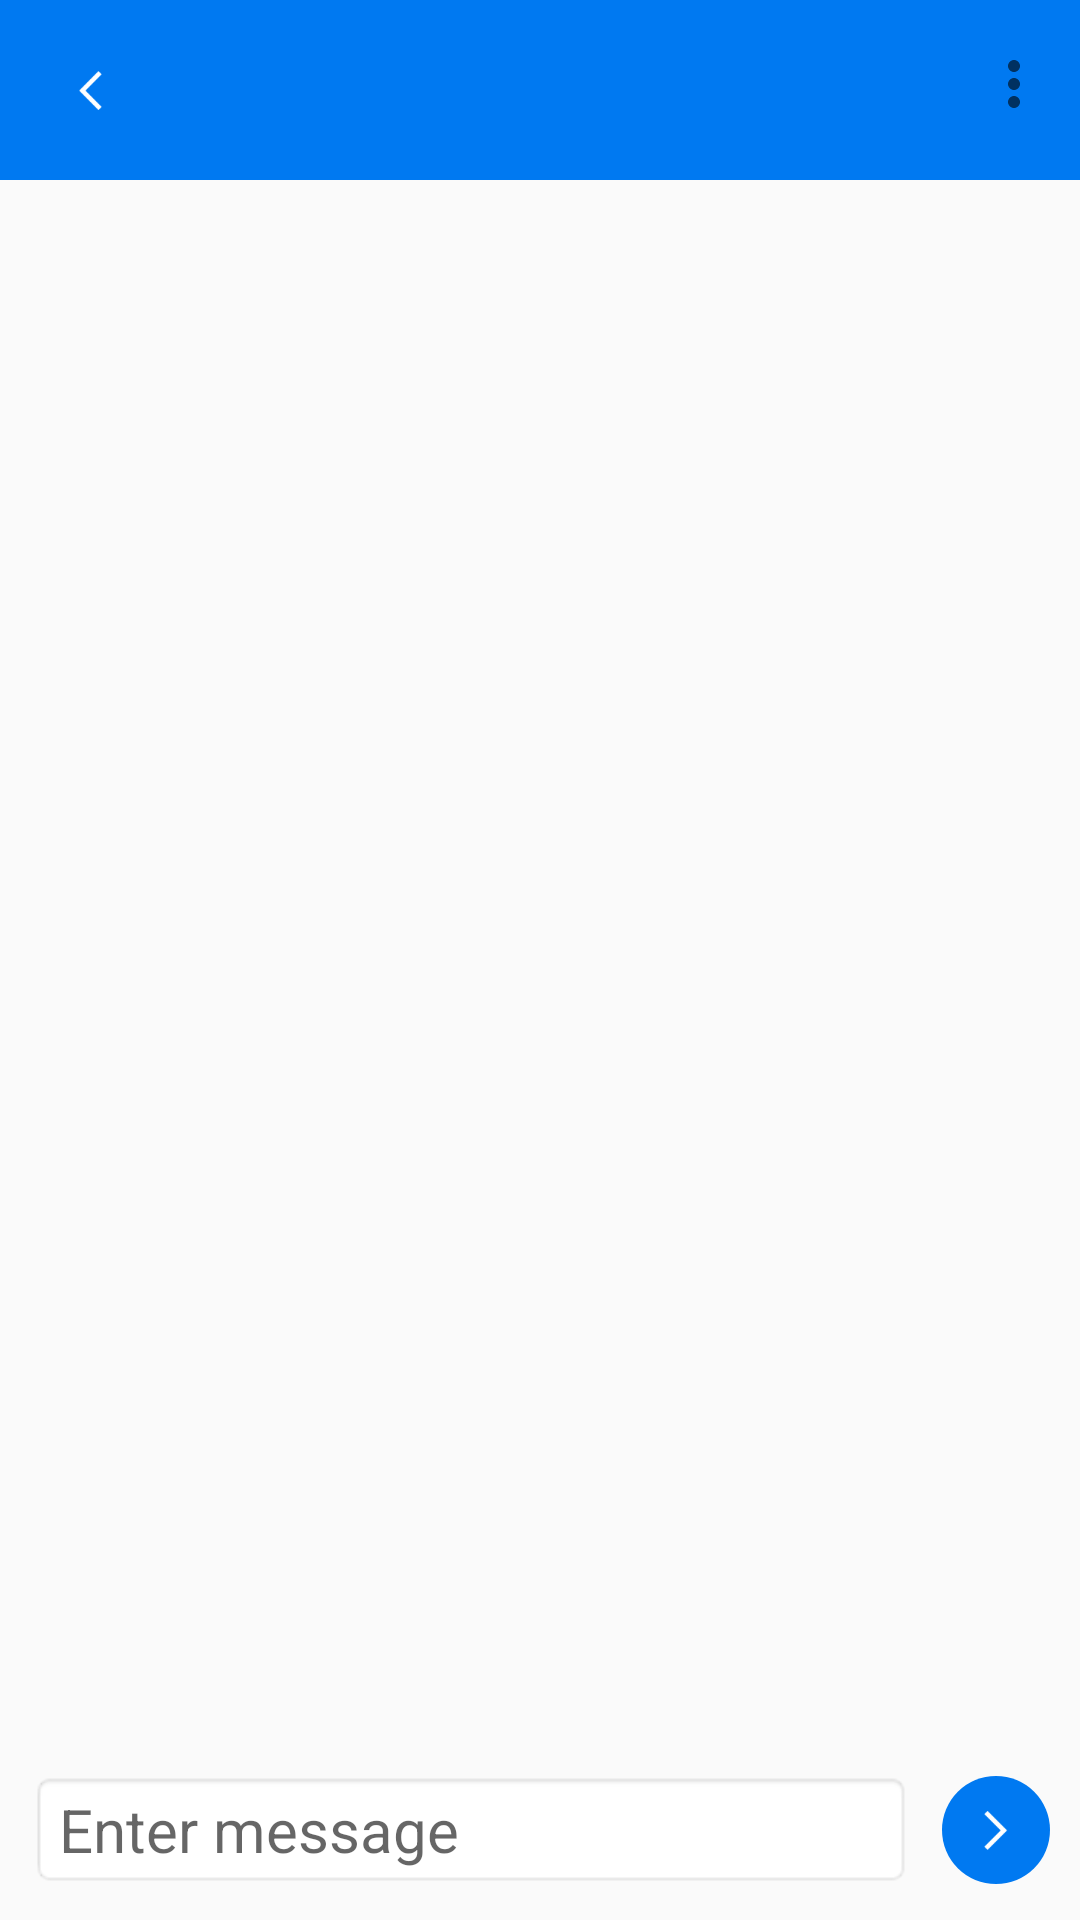

Screen size 1080*1920. Icon name, then its box in pixels as (x1, y1, x2, y2):
arrow: (942, 1776, 1050, 1884)
arrow left: (79, 71, 102, 110)
